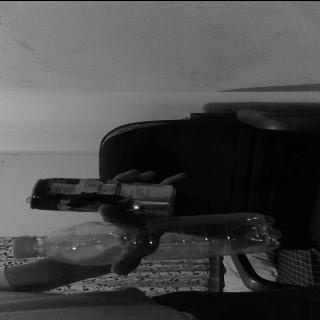alumunium_can: (22, 176, 182, 212)
plastic_bottles: (10, 211, 276, 260)
